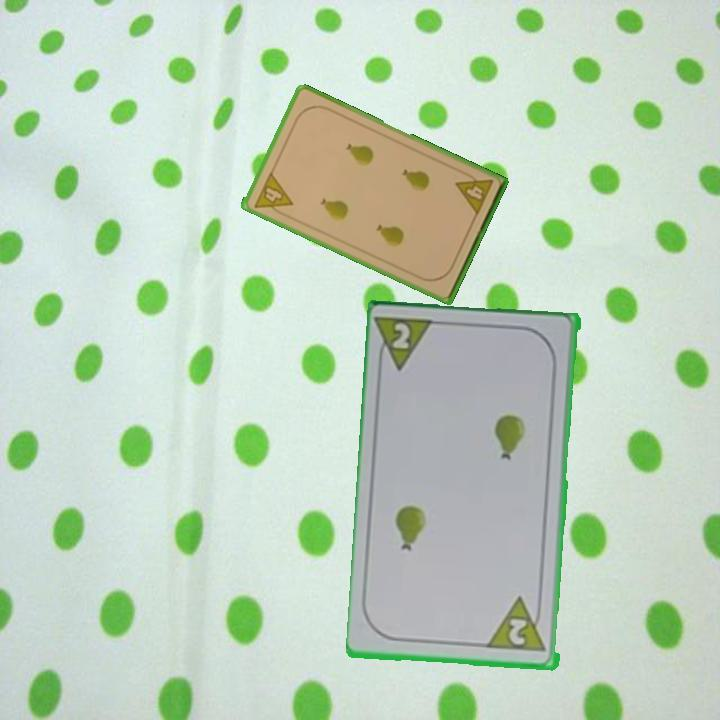2p: (374, 313, 440, 374), (486, 594, 550, 655)
4p: (250, 168, 295, 220), (452, 167, 496, 218)
